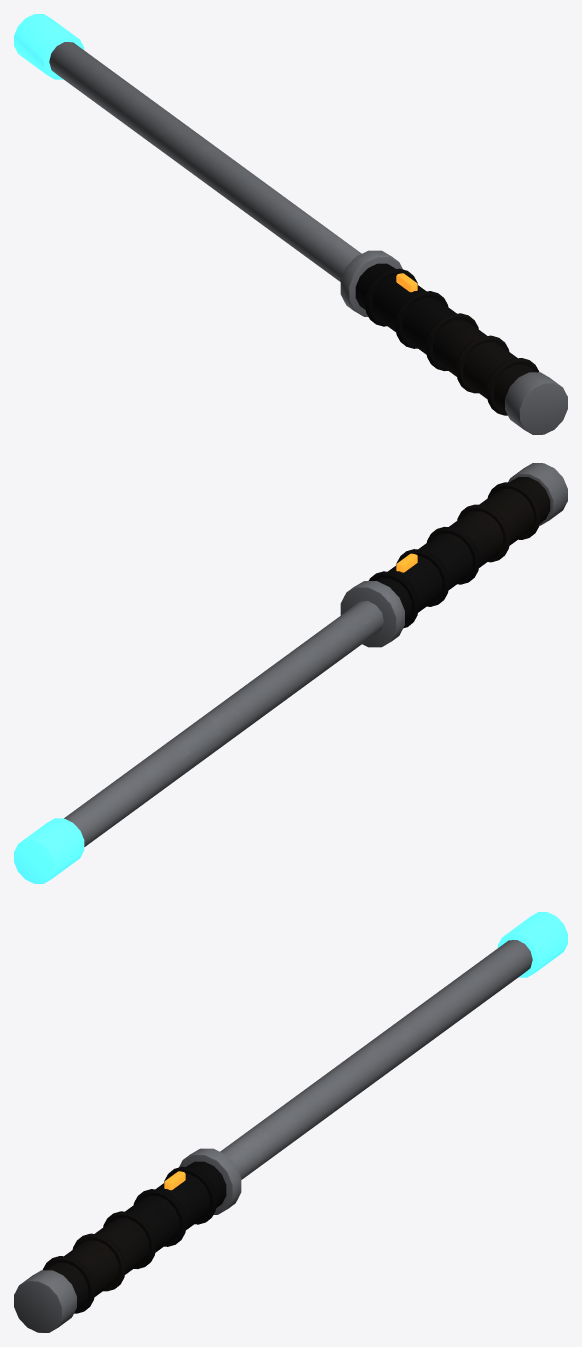
Rendered from stun_baton.glb.
3 renders of one model, top to bottom at view 1: azimuth 30°, elevation 25°; view 2: azimuth 150°, elevation 25°; view 3: azimuth 330°, elevation 25°, orthographic.
Visible parts, largest first — view 1: stun_baton; view 2: stun_baton; view 3: stun_baton.
Boxes of the visible parts, box(x1,y1,x2,y2) form: stun_baton: box(14, 14, 567, 434); stun_baton: box(14, 463, 567, 883); stun_baton: box(14, 912, 567, 1332).
Bounding box in the file's own units: 0.0429 × 0.044 × 0.67.
Materials: 1 (1 with a texture image).
